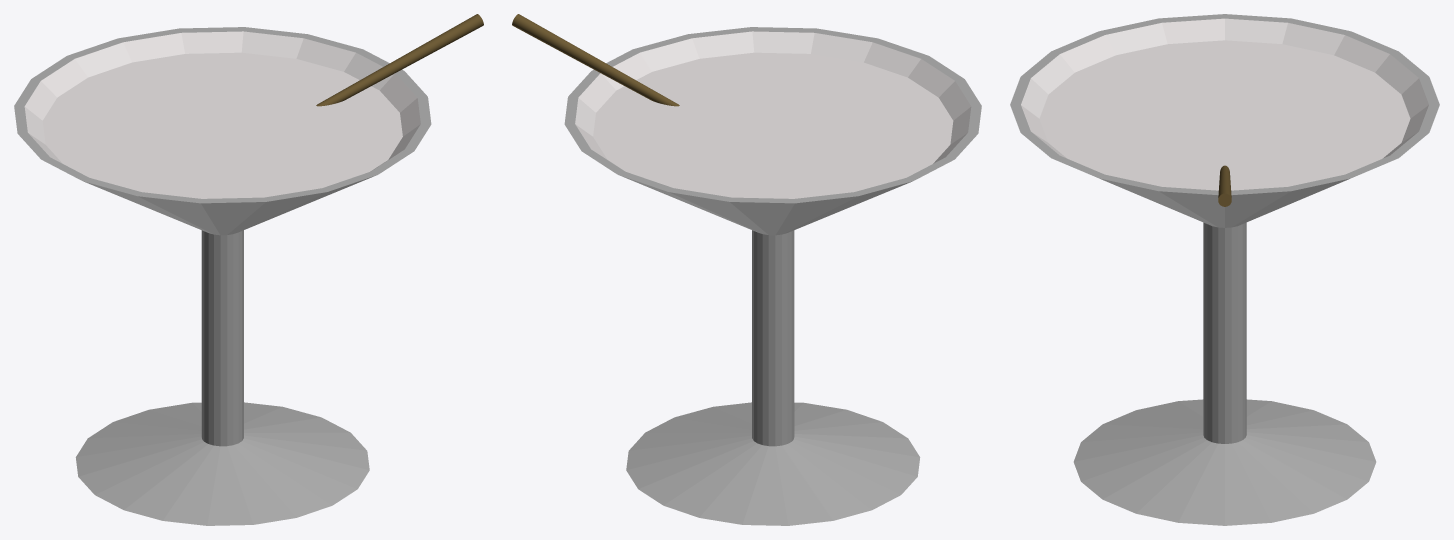
Rendered from Martini.fbx.
3 renders of one model, left to right at view 1: azimuth 30°, elevation 25°; view 2: azimuth 150°, elevation 25°; view 3: azimuth 270°, elevation 25°, orthographic. The views are drawn at different scales.
Visible parts, largest first — view 1: pCylinder1, pCylinder2; view 2: pCylinder1, pCylinder2; view 3: pCylinder1.
Part boxes in pixels (x1=…): pCylinder1: x1=14, y1=27, x2=431, y2=525; pCylinder2: x1=316, y1=14, x2=483, y2=106; pCylinder1: x1=564, y1=27, x2=981, y2=525; pCylinder2: x1=512, y1=14, x2=679, y2=106; pCylinder1: x1=1010, y1=14, x2=1439, y2=525.
Size of the model in its own units: 3.44 by 2.89 by 2.84.
